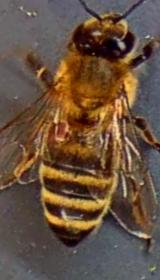varroa_mite: (38, 115, 82, 155)
